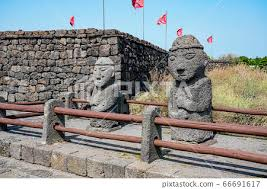Stone Statue: (161, 30, 222, 150), (71, 53, 129, 139)
